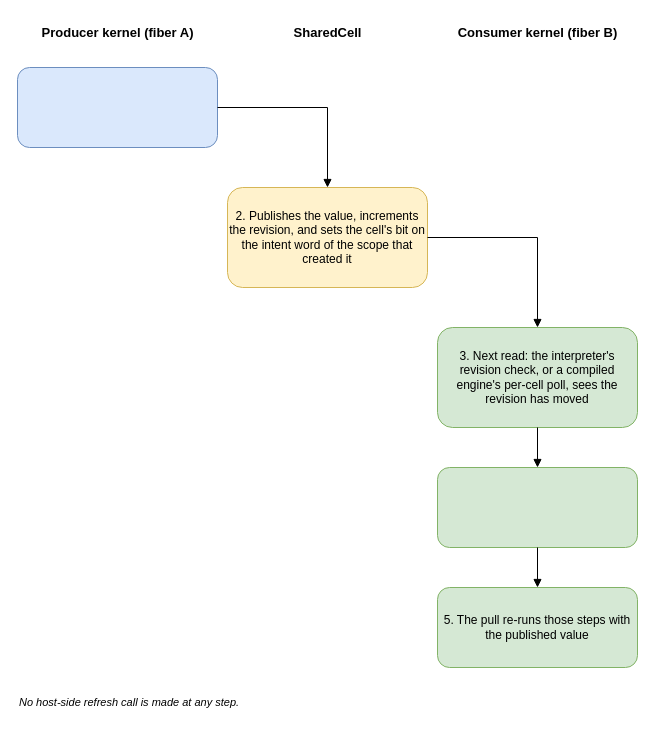
This 655x734 diagram has some shape labels left out. The shapes that lost their labels are listed below. From the top down, each one's centre as x and y in pixels, then its label:
point (117, 107): 1. Writes a value to the cell-bound input, under the cell's Mutex
point (537, 507): 4. Marks every step that reads the cell's slot not current
